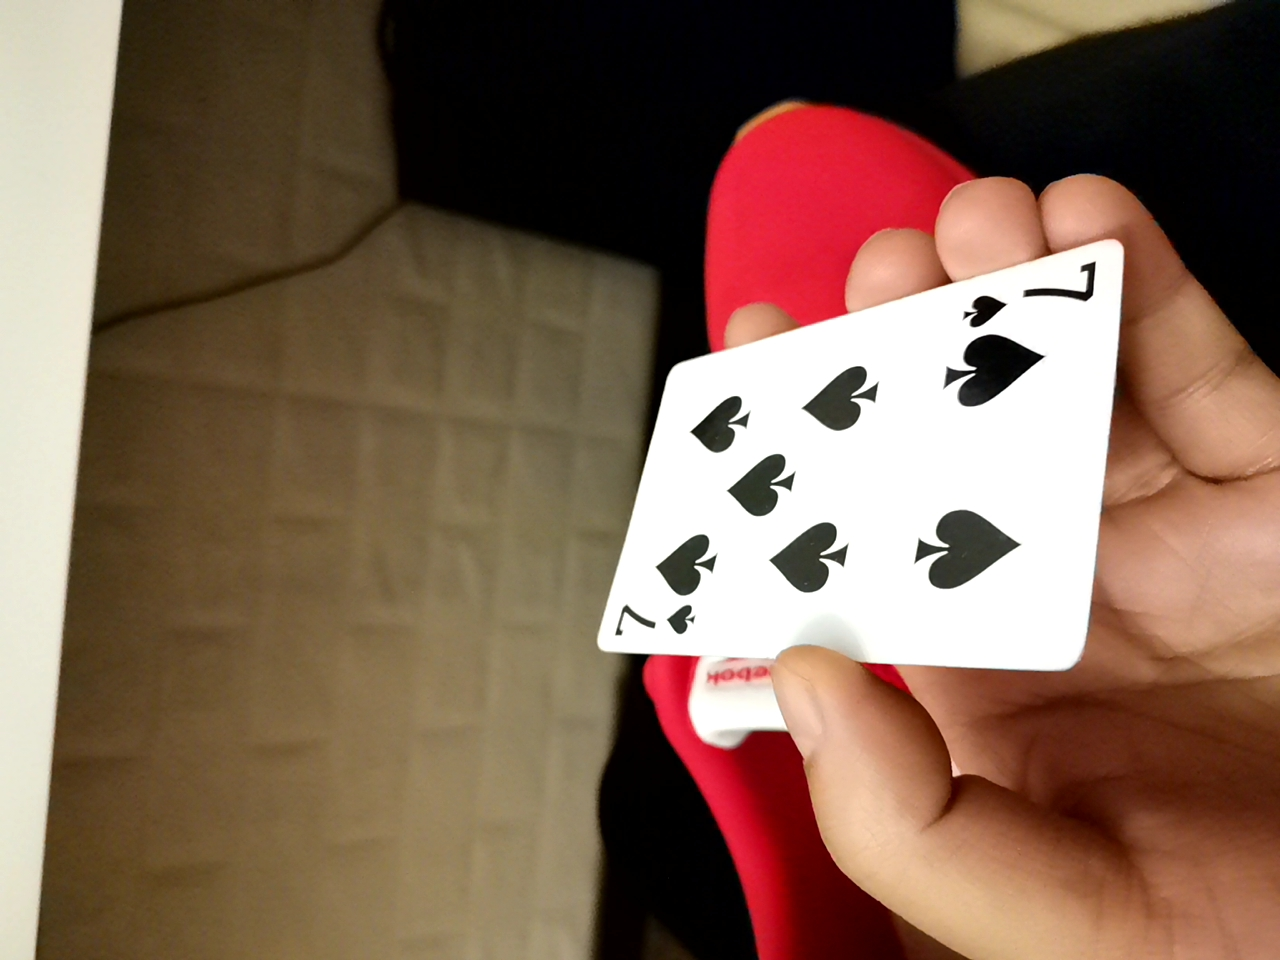ht 7: (602, 249, 1128, 670)
